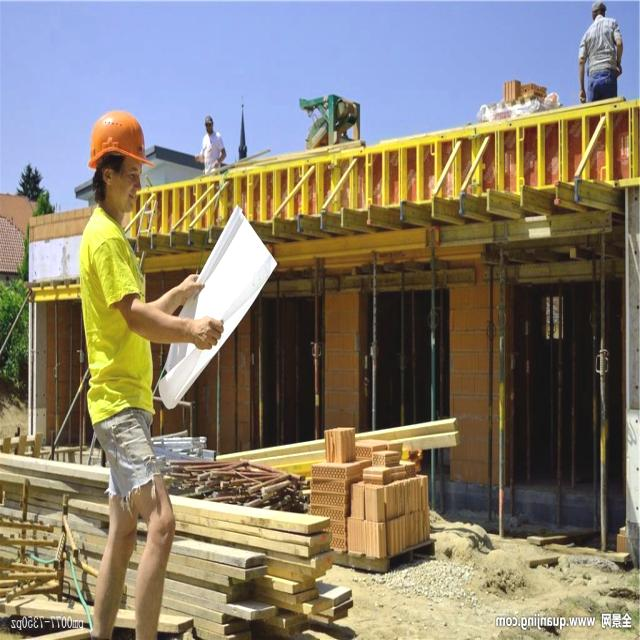face_nomask: (108, 160, 140, 218)
hand_noglove: (182, 310, 228, 358), (176, 268, 204, 312)
head_helmet: (85, 114, 151, 168)
person: (85, 110, 175, 635), (578, 1, 627, 100), (194, 110, 222, 179)
